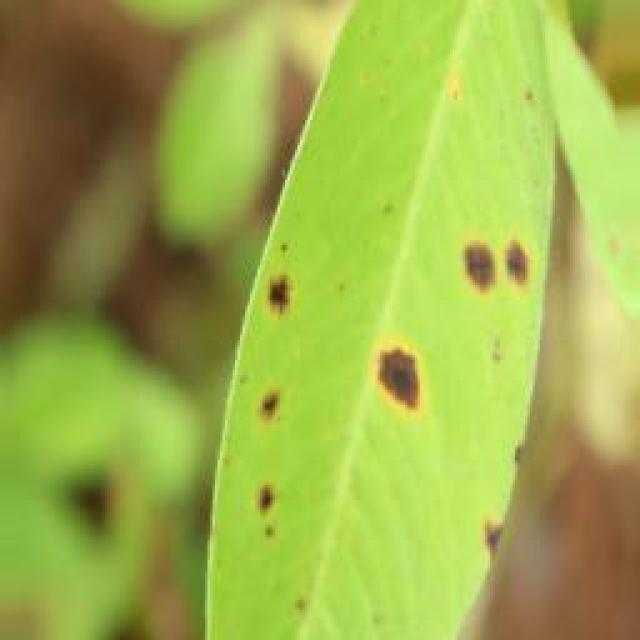Yellowish: (194, 100, 573, 565)
